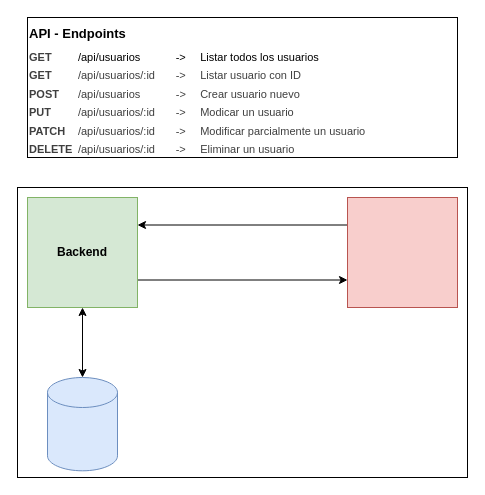
This 485x495 diagram has some shape labels left out. The centre of each missing label's shape, as x and y in pixels:
Database: pixel 82 423
Frontend: pixel 402 252
